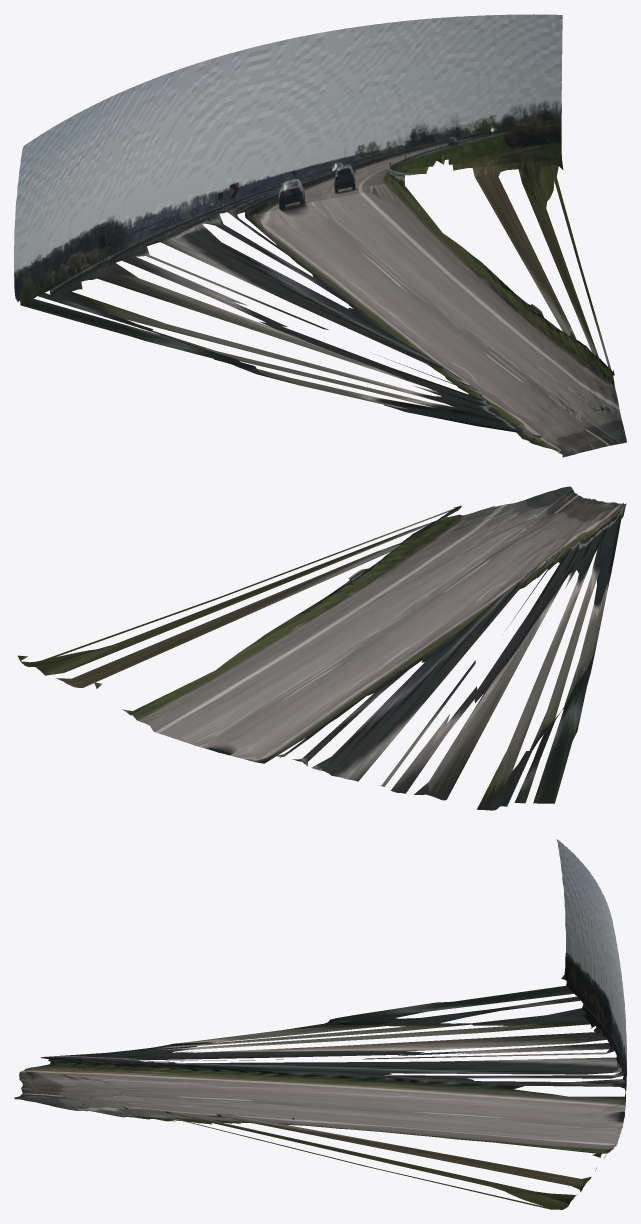
The picture shows the model from 3 angles, top to bottom: view 1: azimuth 30°, elevation 25°; view 2: azimuth 150°, elevation 25°; view 3: azimuth 270°, elevation 25°; orthographic projection. The views are drawn at different scales.
Parts seen in each view (by area): view 1: defaultobject; view 2: defaultobject; view 3: defaultobject.
Boxes of the visible parts, box(x1,y1,x2,y2) form: defaultobject: box(14, 14, 626, 457); defaultobject: box(18, 486, 626, 810); defaultobject: box(14, 839, 626, 1209).
Bounding box in the file's own units: 41.16 × 13.41 × 44.81.
1 material, 1 textured.
